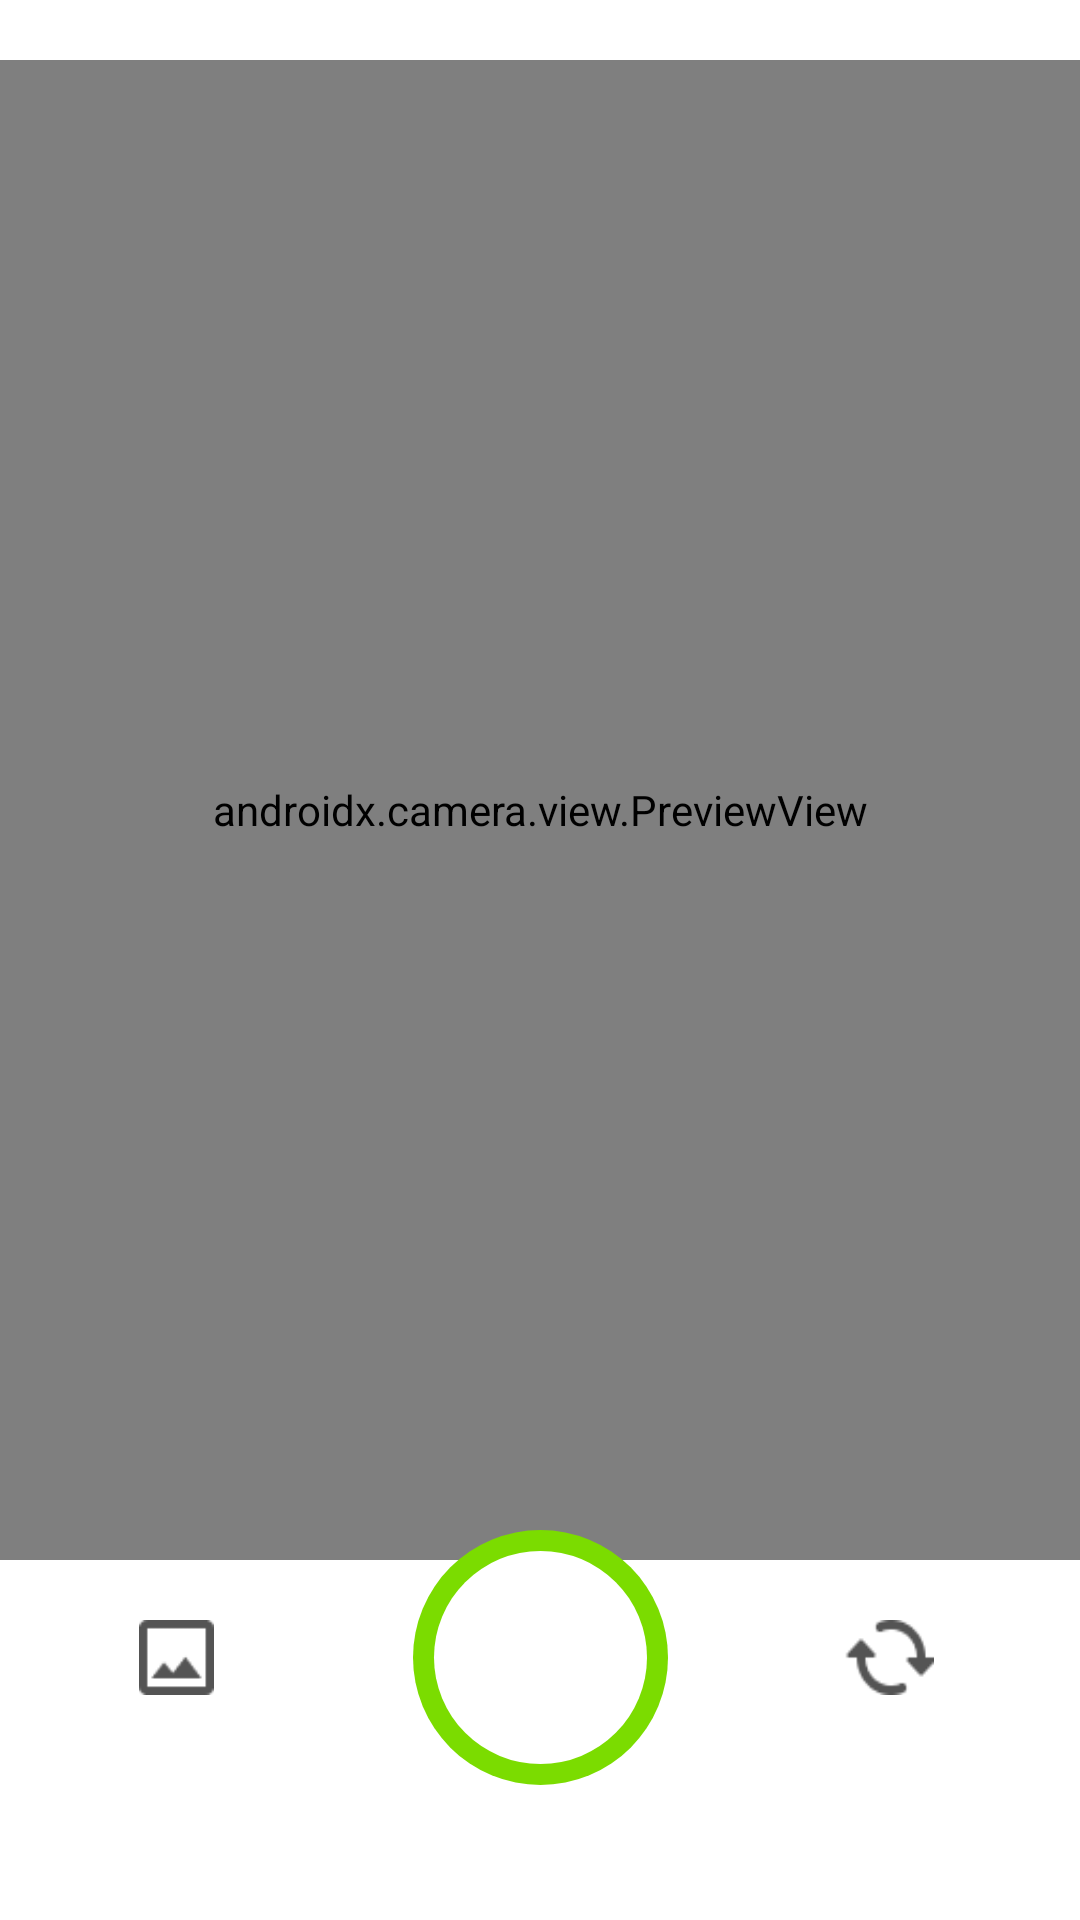

Screen size 1080px x 1920px. Icon name, then its box in pixels as (x1, y1, x2, y2):
change: (846, 1620, 934, 1695)
photo: (139, 1620, 214, 1695)
